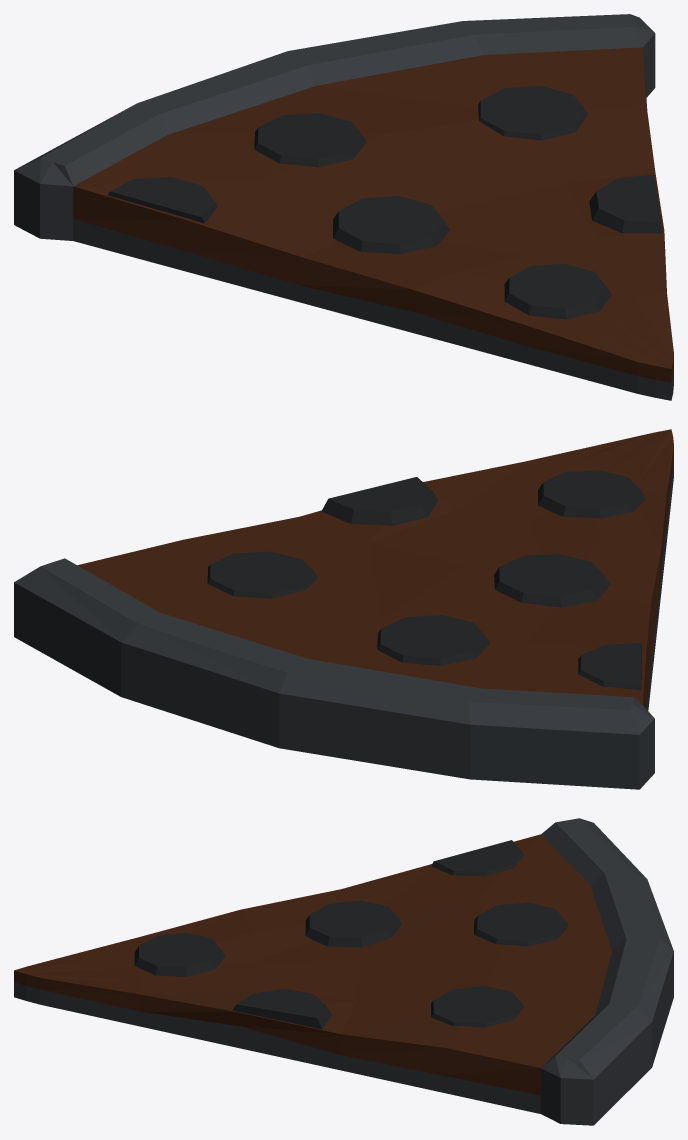
The model's file is Pizza_Burned.obj.
3 views of the same model, one above another, from view 1: azimuth 30°, elevation 25°; view 2: azimuth 150°, elevation 25°; view 3: azimuth 270°, elevation 25° (orthographic). The views are drawn at different scales.
Parts seen in each view (by area): view 1: Pizza_Burned_DarkBrown, Pizza_Burned_DarkGrey, Pizza_Burned_Black; view 2: Pizza_Burned_DarkBrown, Pizza_Burned_DarkGrey, Pizza_Burned_Black; view 3: Pizza_Burned_DarkBrown, Pizza_Burned_DarkGrey, Pizza_Burned_Black.
Part boxes in pixels (box(x1,y1,x2,y2)): Pizza_Burned_DarkBrown: box(73, 47, 673, 382); Pizza_Burned_DarkGrey: box(14, 14, 673, 400); Pizza_Burned_Black: box(108, 85, 662, 319); Pizza_Burned_DarkBrown: box(77, 429, 673, 708); Pizza_Burned_DarkGrey: box(14, 461, 673, 789); Pizza_Burned_Black: box(207, 470, 645, 690); Pizza_Burned_DarkBrown: box(14, 834, 612, 1095); Pizza_Burned_DarkGrey: box(14, 818, 673, 1125); Pizza_Burned_Black: box(134, 840, 568, 1029).
Bounding box in the file's own units: 1.07 × 0.1128 × 1.16.
